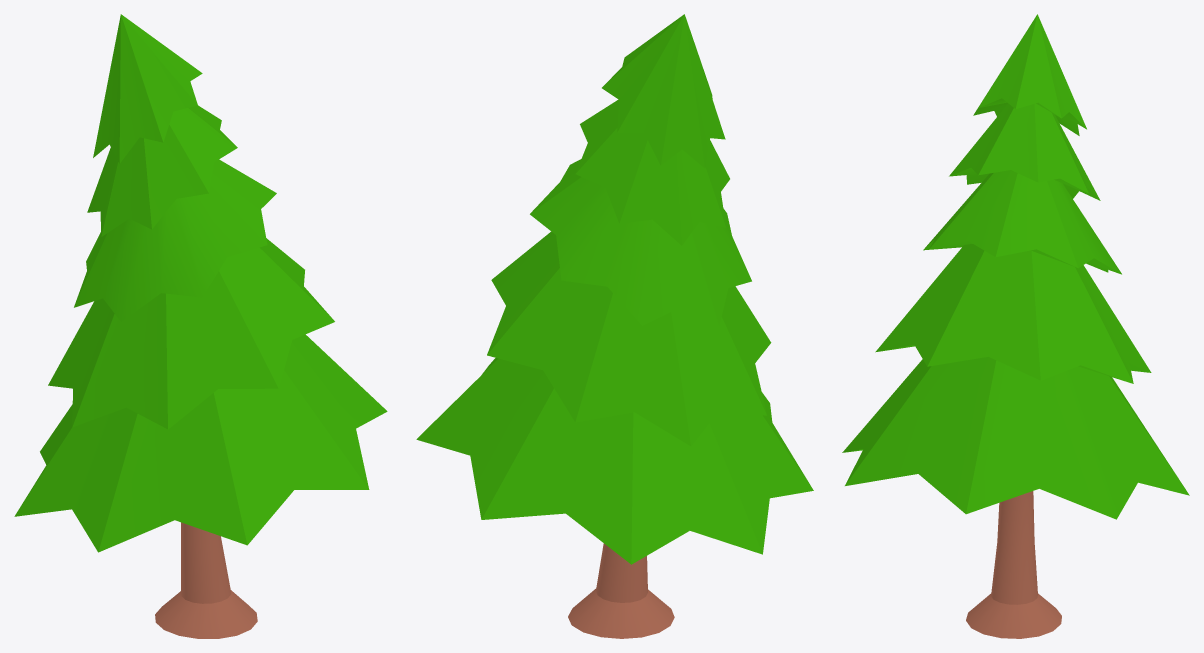
Rendered from object_134_lev1.glb.
3 renders of one model, left to right at view 1: azimuth 30°, elevation 25°; view 2: azimuth 150°, elevation 25°; view 3: azimuth 270°, elevation 25°, orthographic. The views are drawn at different scales.
Parts seen in each view (by area): view 1: object_134_lev1; view 2: object_134_lev1; view 3: object_134_lev1.
Part boxes in pixels (x1=…): object_134_lev1: x1=14, y1=14, x2=387, y2=638; object_134_lev1: x1=416, y1=14, x2=813, y2=638; object_134_lev1: x1=842, y1=14, x2=1189, y2=638.
Size of the model in its own units: 0.6892 by 1.26 by 0.6961.
1 material, 1 textured.
